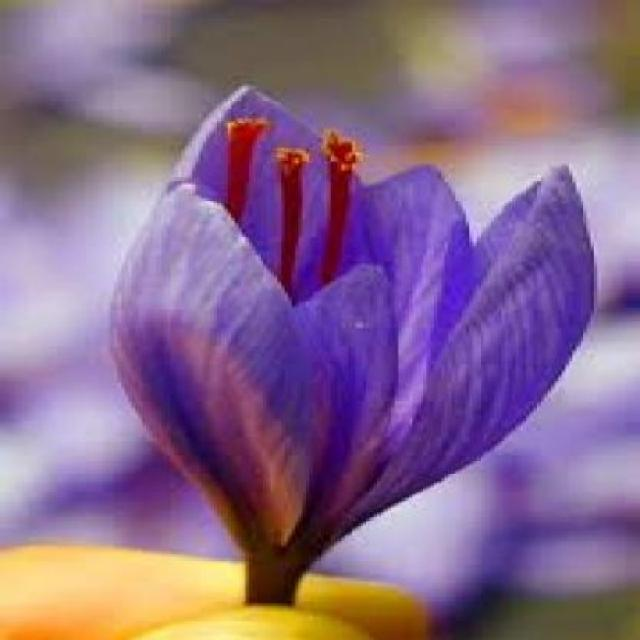Flower: (94, 74, 598, 575)
stigma: (316, 121, 366, 280), (219, 106, 268, 216), (275, 140, 308, 280)
